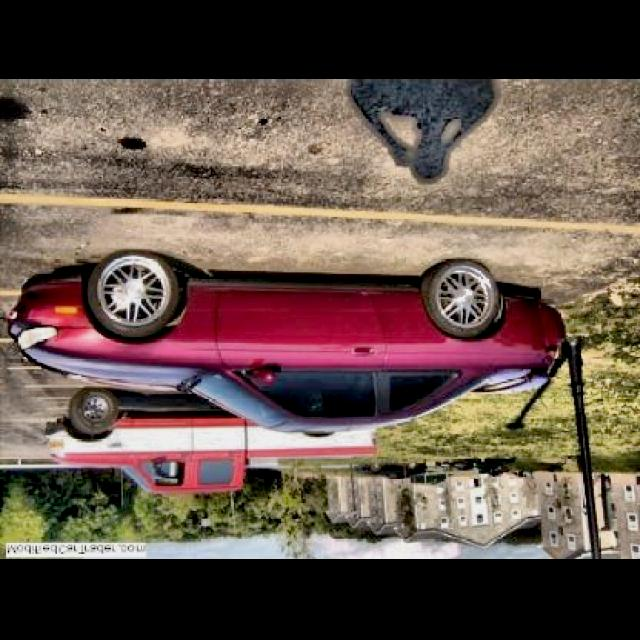maroon: (8, 263, 567, 431)
